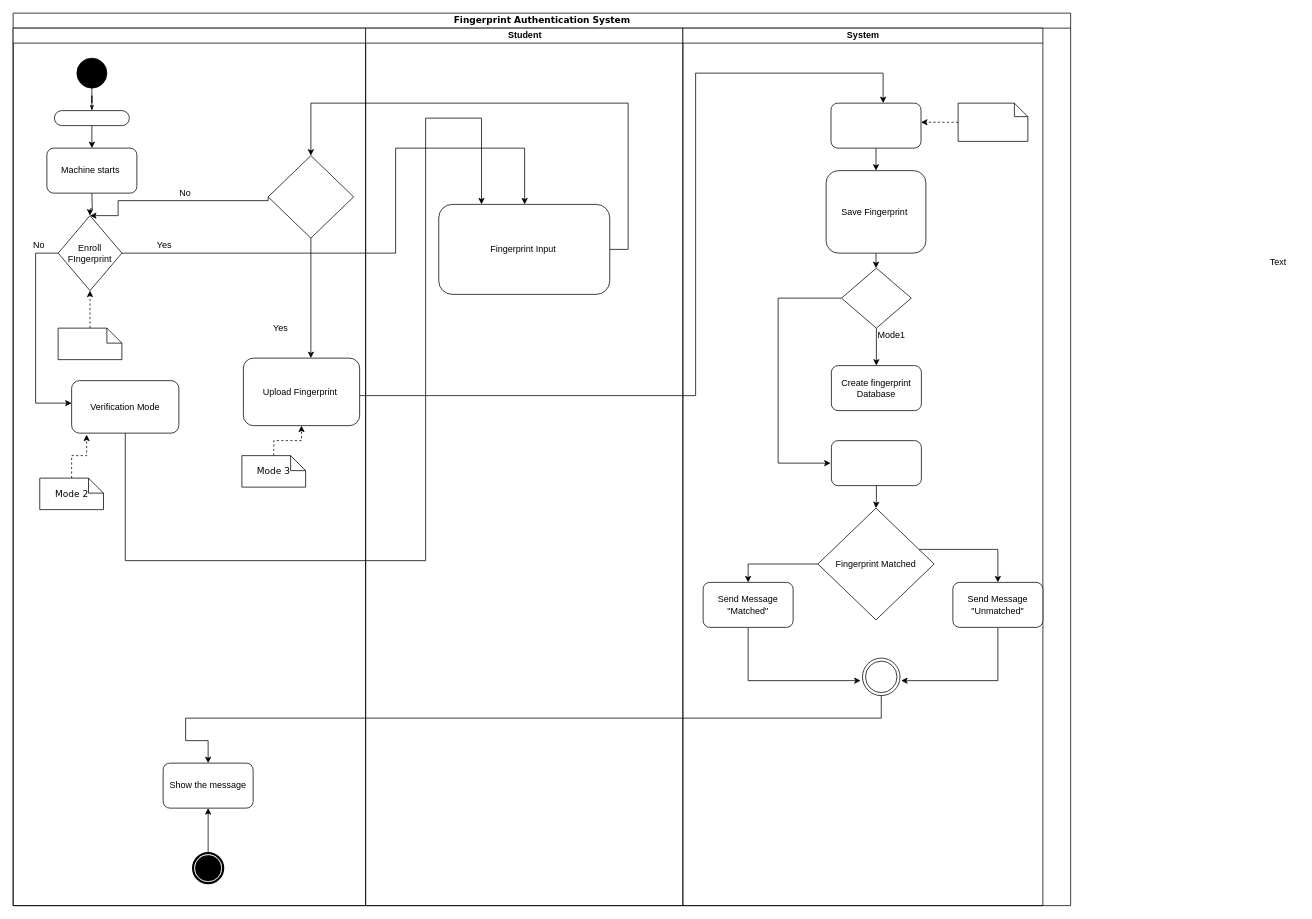
This 1312x919 diagram has some shape labels left out. The box of each missing label's shape, as (x1, y1, x2, y2) in pixels:
Convert Fingerprint data to image: (830, 102, 921, 148)
Enroll Fingerprint Successful: (267, 155, 354, 238)
Extract Feature Vector to img.: (957, 102, 1028, 141)
Match fingerprint: (831, 440, 921, 486)
Mode 1: (57, 327, 122, 360)
Mode1/Mode2: (841, 267, 911, 328)
Start: (54, 110, 129, 126)
Teacher: (12, 27, 366, 906)
